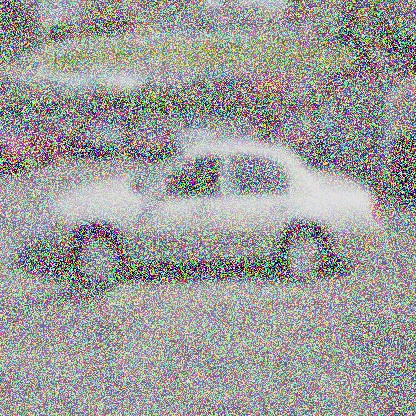Vehicle: (37, 138, 384, 290)
